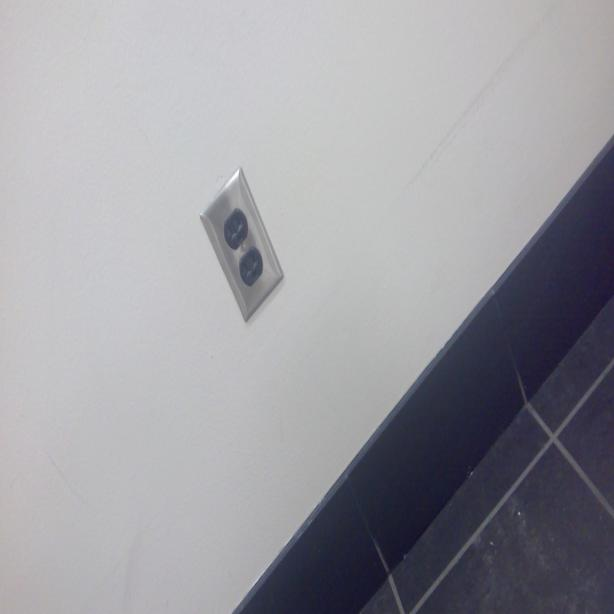typeb: (224, 207, 247, 246), (240, 250, 262, 282)
